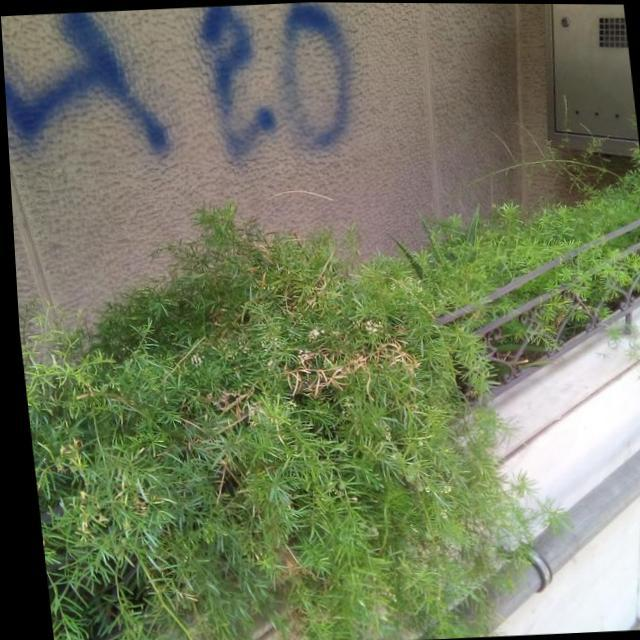-: (0, 0, 362, 172)
